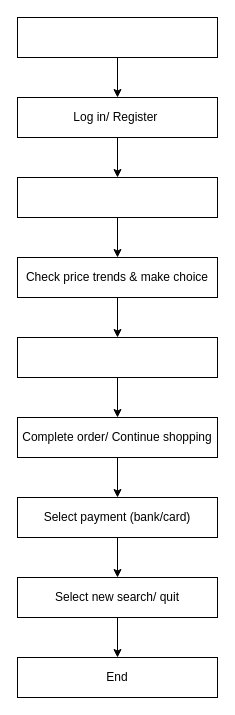
Some shapes in this 235 by 715 pixel diagram are drawn without their labels. The centre of each missing label's shape, as x and y in pixels:
"Add to cart or Buy now" goes at (x=117, y=357).
"Search" goes at (x=117, y=197).
"Start" goes at (x=117, y=37).
